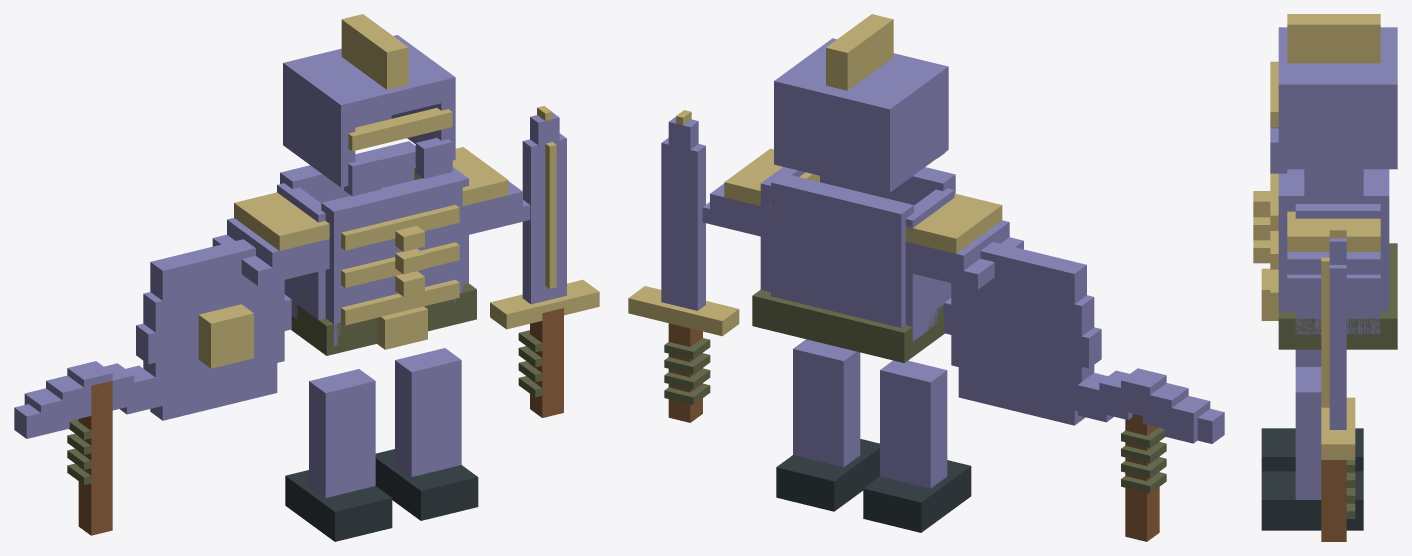
Rendered from gear_baseline_t8.glb.
3 renders of one model, left to right at view 1: azimuth 30°, elevation 25°; view 2: azimuth 150°, elevation 25°; view 3: azimuth 270°, elevation 25°, orthographic. The views are drawn at different scales.
Visible parts, largest first — view 1: gear_baseline_t8/armor_chest, gear_baseline_t8/armor_helmet, gear_baseline_t8/shield, gear_baseline_t8/weapon, gear_baseline_t8/armor_greave_left, gear_baseline_t8/armor_greave_right, gear_baseline_t8/utility_tool, gear_baseline_t8/armor_shoulder_left, gear_baseline_t8/armor_belt, gear_baseline_t8/armor_shoulder_right; view 2: gear_baseline_t8/armor_chest, gear_baseline_t8/armor_helmet, gear_baseline_t8/shield, gear_baseline_t8/weapon, gear_baseline_t8/armor_greave_left, gear_baseline_t8/armor_greave_right, gear_baseline_t8/utility_tool, gear_baseline_t8/armor_shoulder_left, gear_baseline_t8/armor_belt, gear_baseline_t8/armor_shoulder_right; view 3: gear_baseline_t8/armor_helmet, gear_baseline_t8/armor_chest, gear_baseline_t8/weapon, gear_baseline_t8/armor_greave_right, gear_baseline_t8/armor_shoulder_right, gear_baseline_t8/armor_belt, gear_baseline_t8/armor_greave_left.
Boxes of the visible parts, <box> form: gear_baseline_t8/armor_chest: <box>277,141,468,346</box>; gear_baseline_t8/armor_helmet: <box>283,14,455,196</box>; gear_baseline_t8/shield: <box>136,239,291,420</box>; gear_baseline_t8/weapon: <box>490,106,599,417</box>; gear_baseline_t8/armor_greave_left: <box>285,369,392,541</box>; gear_baseline_t8/armor_greave_right: <box>375,348,478,520</box>; gear_baseline_t8/utility_tool: <box>14,361,176,535</box>; gear_baseline_t8/armor_shoulder_left: <box>212,192,329,286</box>; gear_baseline_t8/armor_belt: <box>291,283,476,355</box>; gear_baseline_t8/armor_shoulder_right: <box>414,147,530,236</box>; gear_baseline_t8/armor_chest: <box>760,167,955,341</box>; gear_baseline_t8/armor_helmet: <box>774,14,948,192</box>; gear_baseline_t8/shield: <box>944,242,1101,425</box>; gear_baseline_t8/weapon: <box>628,110,739,422</box>; gear_baseline_t8/armor_greave_left: <box>863,360,971,532</box>; gear_baseline_t8/armor_greave_right: <box>776,339,879,511</box>; gear_baseline_t8/utility_tool: <box>1060,368,1224,541</box>; gear_baseline_t8/armor_shoulder_left: <box>905,193,1023,289</box>; gear_baseline_t8/armor_belt: <box>752,289,944,362</box>; gear_baseline_t8/armor_shoulder_right: <box>702,148,819,236</box>; gear_baseline_t8/armor_helmet: <box>1270,14,1397,173</box>; gear_baseline_t8/armor_chest: <box>1253,169,1389,334</box>; gear_baseline_t8/weapon: <box>1321,227,1355,541</box>; gear_baseline_t8/armor_greave_right: <box>1261,367,1363,530</box>; gear_baseline_t8/armor_shoulder_right: <box>1287,211,1380,293</box>; gear_baseline_t8/armor_belt: <box>1261,243,1397,349</box>; gear_baseline_t8/armor_greave_left: <box>1261,349,1363,471</box>.
Size of the model in its own units: 2.5 by 1.94 by 0.5312.
